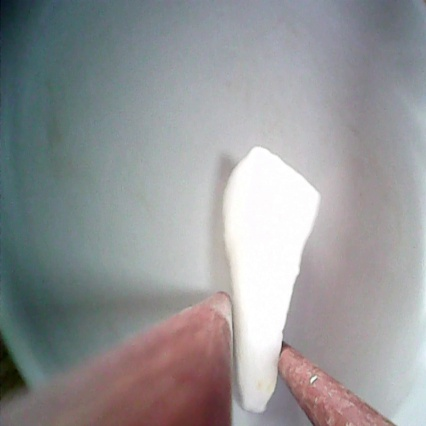white_chinese-yam: (214, 148, 323, 426)
